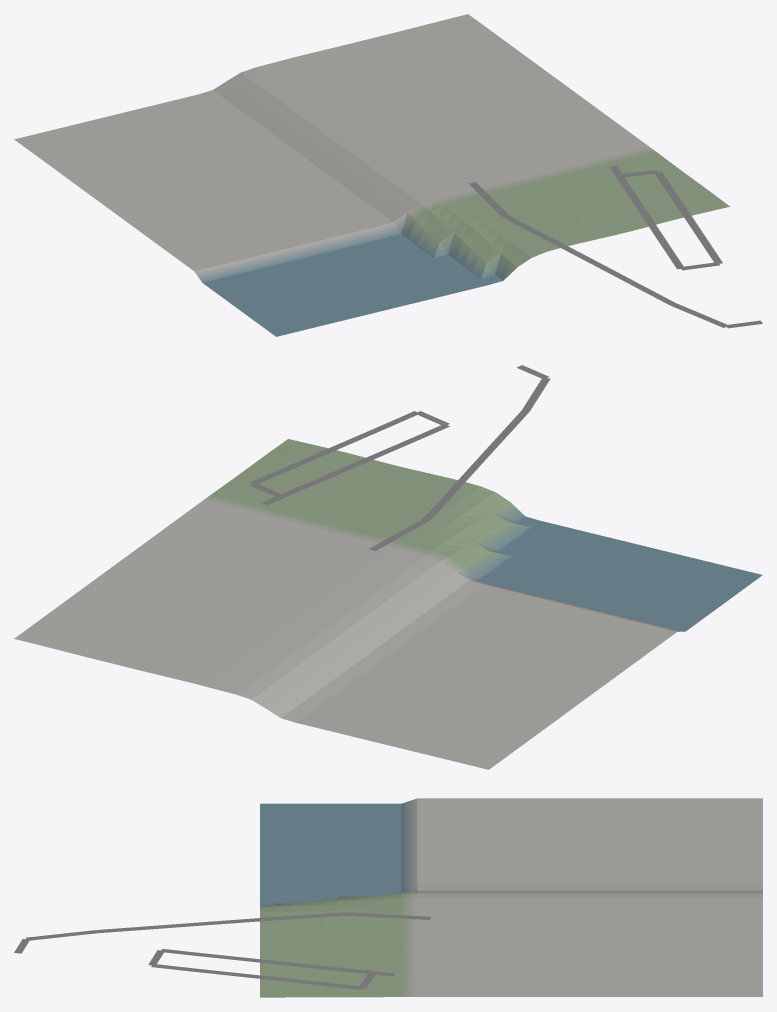
Rendered from tile_4_-8.glb.
The picture shows the model from 3 angles, top to bottom: view 1: azimuth 30°, elevation 25°; view 2: azimuth 150°, elevation 25°; view 3: azimuth 270°, elevation 25°; orthographic projection. The views are drawn at different scales.
Parts seen in each view (by area): view 1: terrain, roads; view 2: terrain, roads; view 3: terrain, roads.
Part boxes in pixels (x1=…): terrain: x1=14, y1=14, x2=729, y2=336; roads: x1=468, y1=166, x2=762, y2=328; terrain: x1=14, y1=439, x2=762, y2=769; roads: x1=250, y1=365, x2=550, y2=550; terrain: x1=260, y1=798, x2=762, y2=997; roads: x1=14, y1=912, x2=430, y2=989.
Bounding box in the file's own units: 256 × 10.84 × 381.
